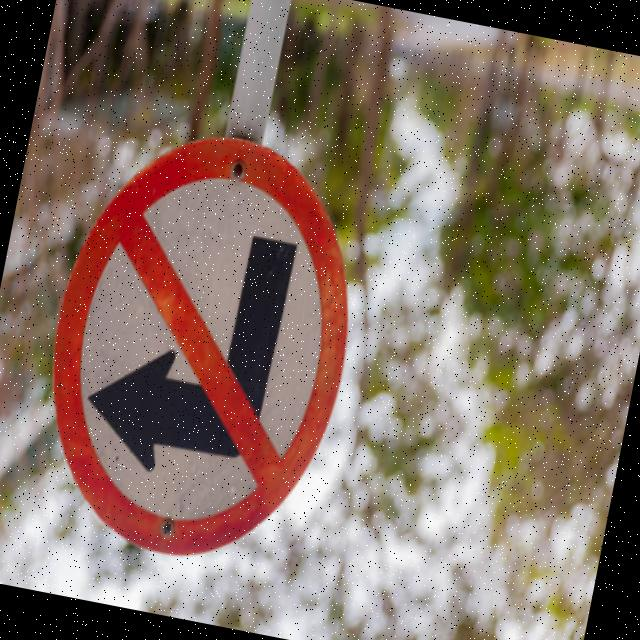do_not_turn_right: (12, 104, 384, 596)
